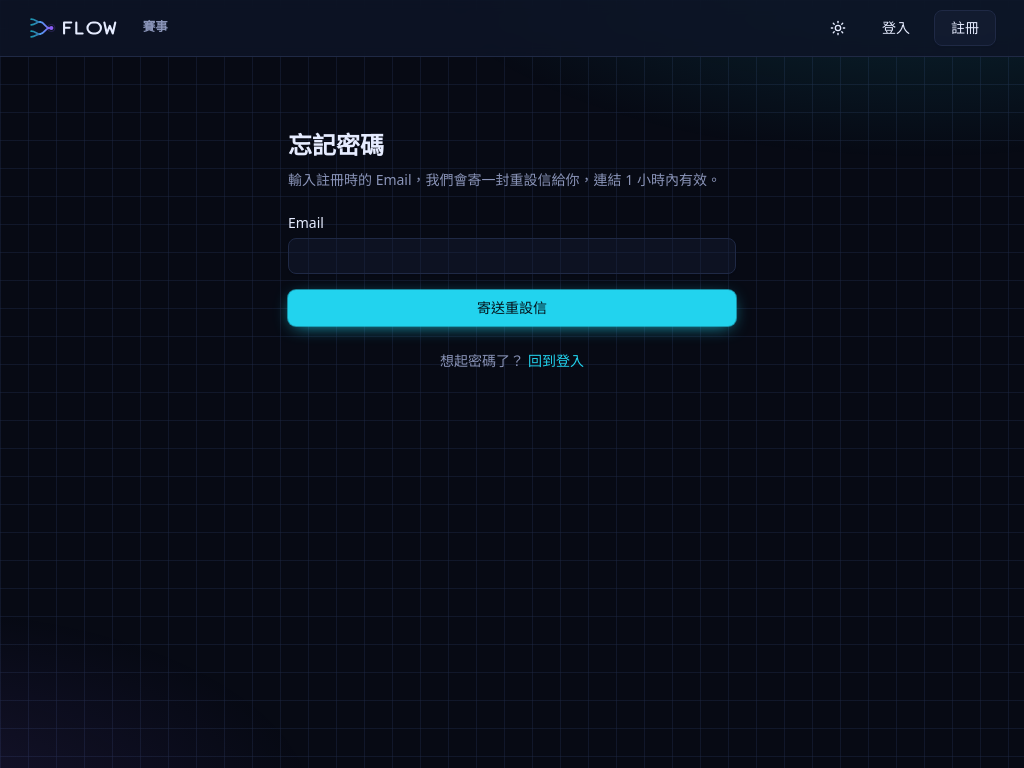
S8 忘記密碼 › 送出 Email：呼叫 API（去掉前後空白），畫面顯示不透露帳號是否存在的訊息
Type "  an@example.com " into the field labelled "Email" at {"x": 512, "y": 256}, box [288,238,736,274]
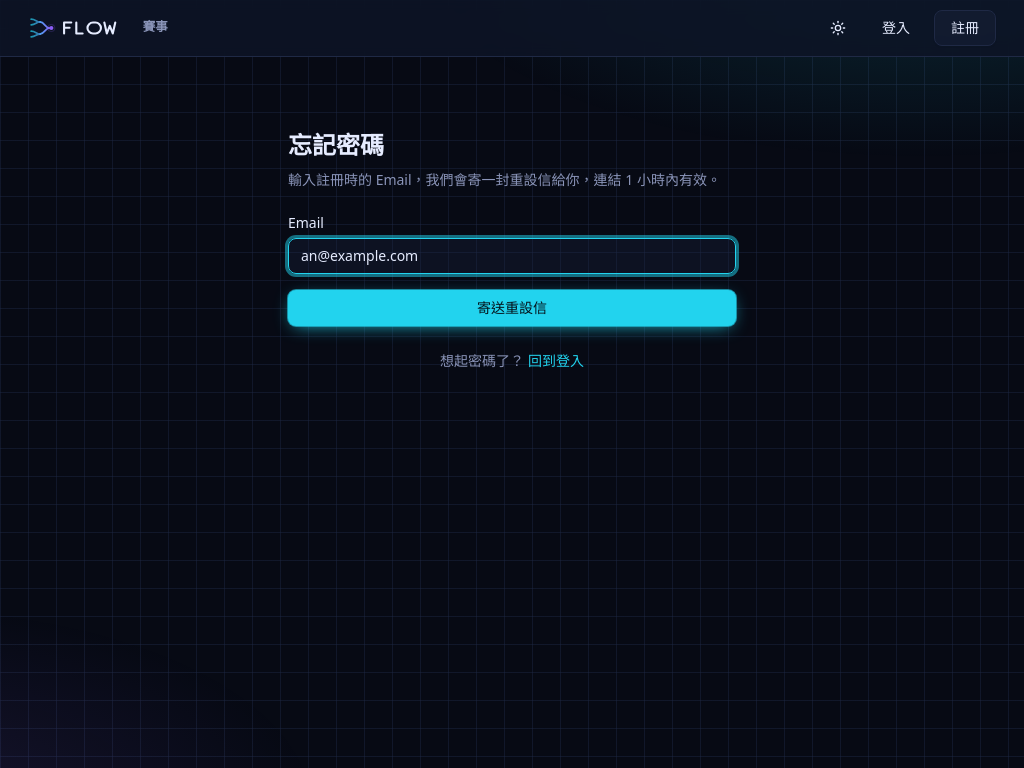
Click the button "寄送重設信" at {"x": 512, "y": 308}, box [288,290,736,326]
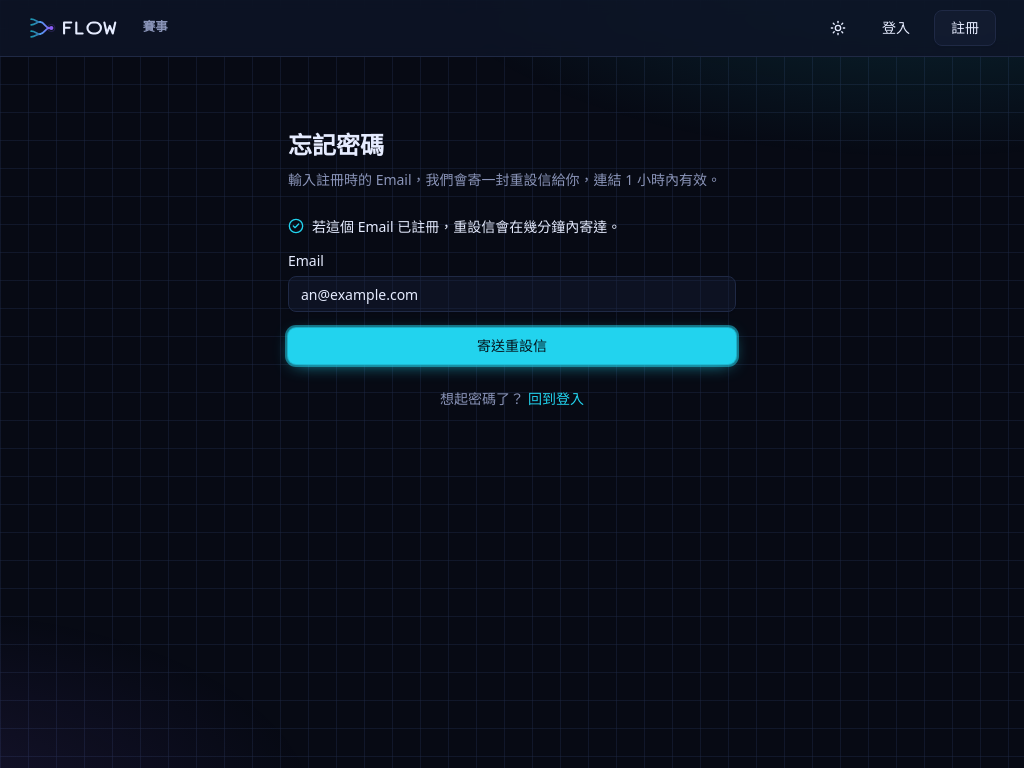
expect the message reads "若這個 Email 已註冊，重設信會在幾分鐘內寄達。": met, box [312,217,621,236]
